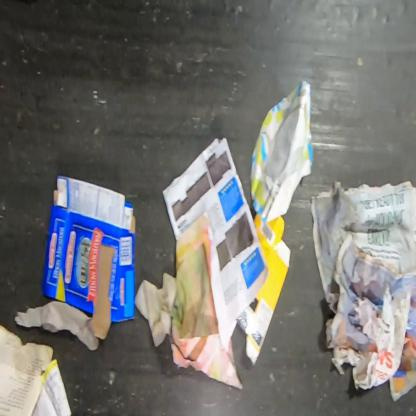cardboard: (41, 176, 137, 340), (249, 80, 314, 222), (236, 213, 292, 366)
